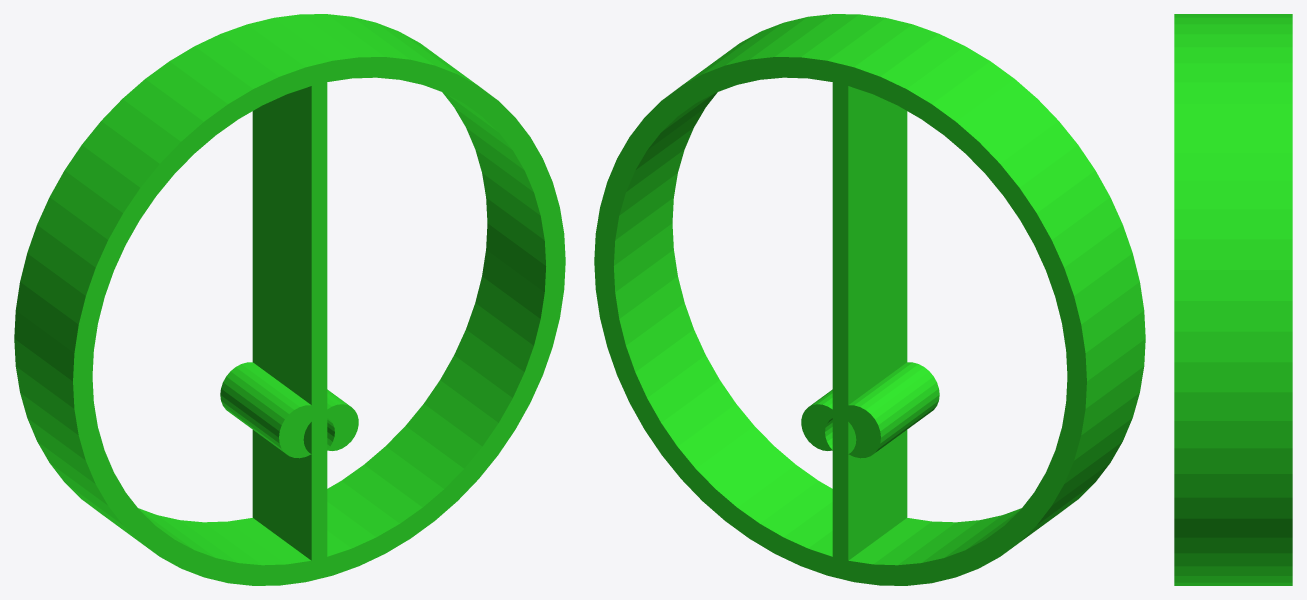
3 views of the same model, side by side, from view 1: azimuth 30°, elevation 25°; view 2: azimuth 150°, elevation 25°; view 3: azimuth 270°, elevation 25° (orthographic).
Visible parts, largest first — view 1: test; view 2: test; view 3: test.
Part boxes in pixels (left/top/right/bottom): test: left=14, top=14, right=565, bottom=585; test: left=594, top=14, right=1145, bottom=585; test: left=1174, top=14, right=1292, bottom=585.
Bounding box in the file's own units: 2 × 2 × 0.4127.
